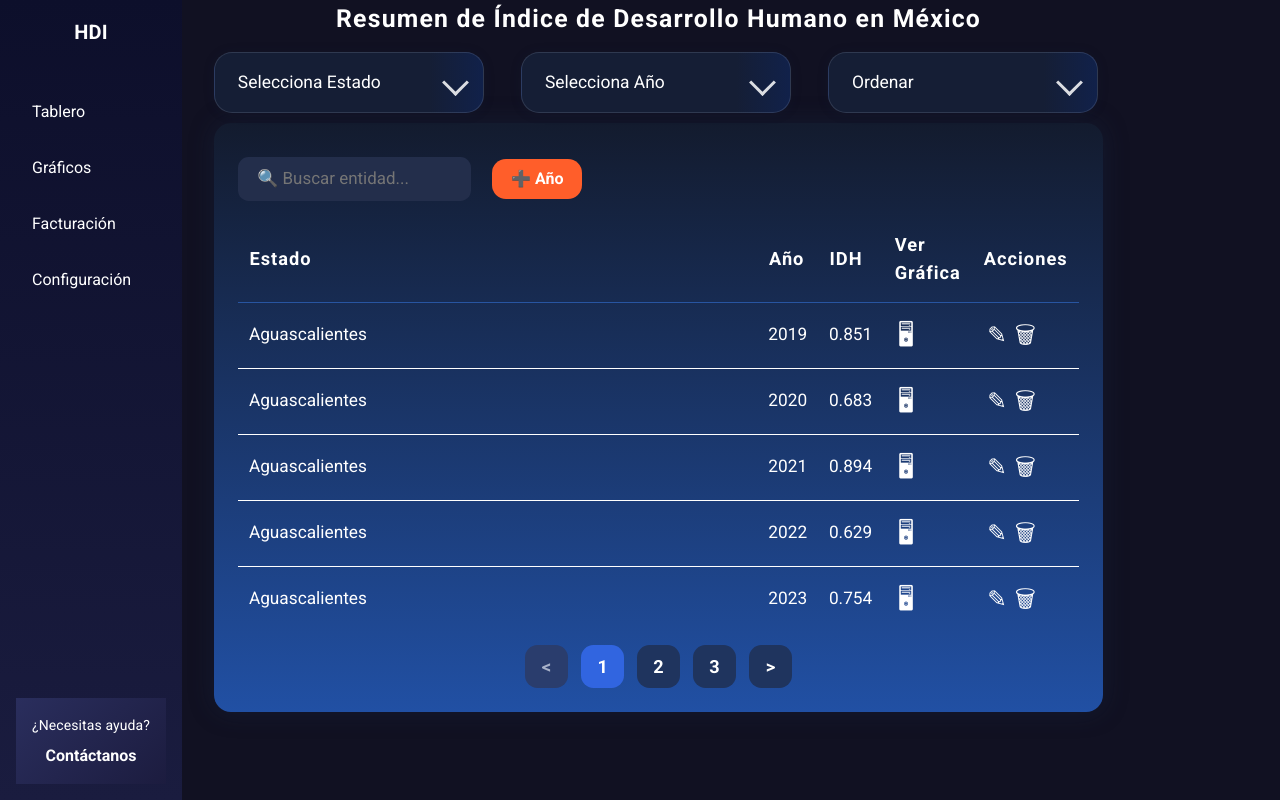
Test case: Página de inicio › Busca un estado por nombre y muestra los resultados esperados
This screenshot has width=1280, height=800.
Type "veracruz" into the field with placeholder "🔍 Buscar entidad..." at (355, 179), box [238,157,471,201]
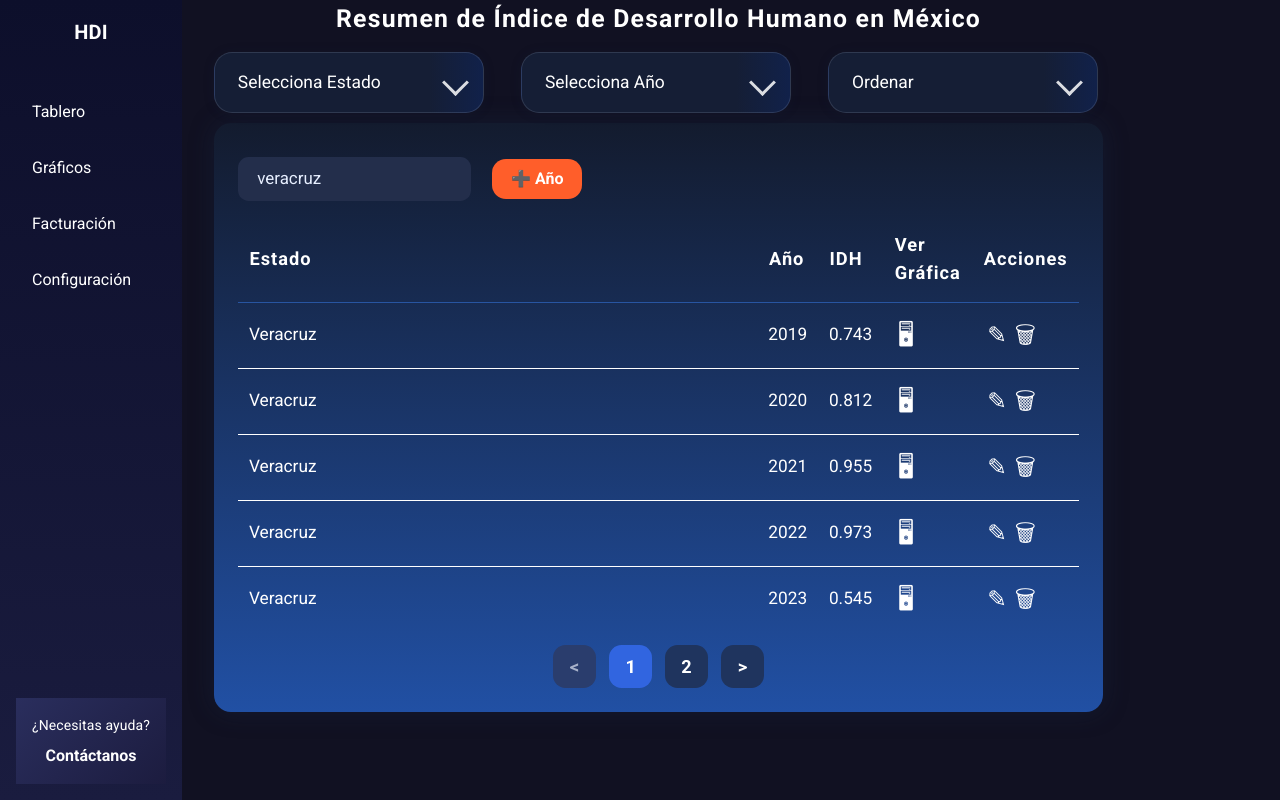
Result: the cell "Veracruz" next to "2019" is shown at [238,302,758,368]
Result: the cell "Veracruz" next to "2020" is shown at [238,368,758,434]
Result: the cell "Veracruz" next to "2021" is shown at [238,434,758,500]
